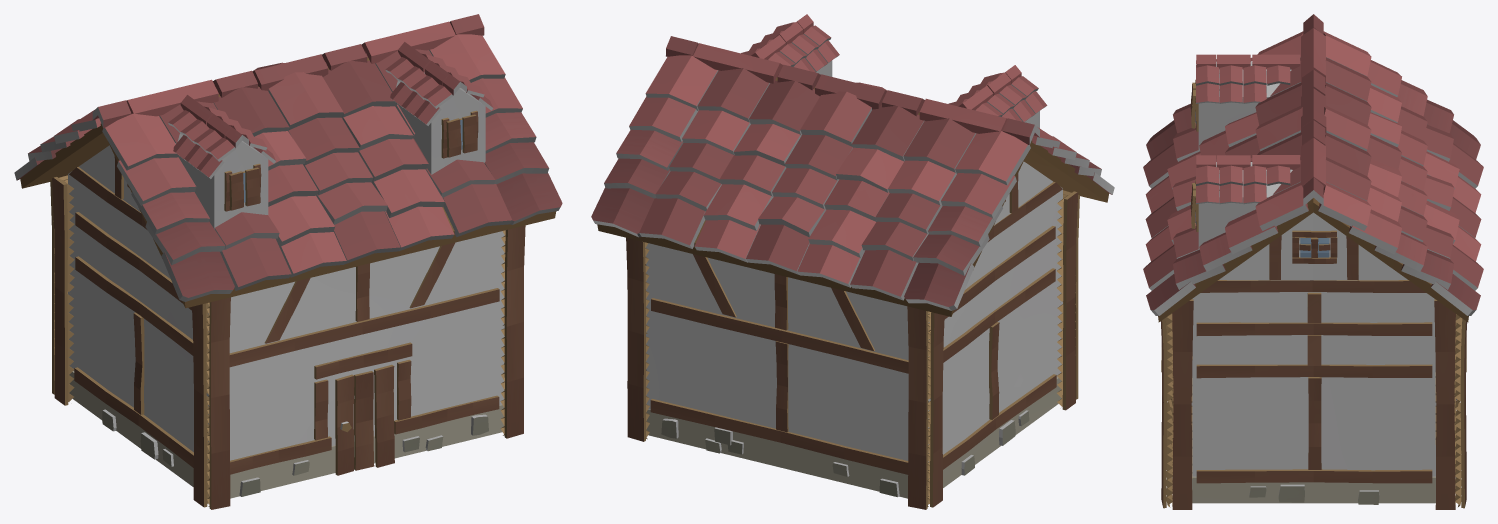
The model's file is paper house 2.fbx.
The picture shows the model from 3 angles, left to right: view 1: azimuth 30°, elevation 25°; view 2: azimuth 150°, elevation 25°; view 3: azimuth 270°, elevation 25°; orthographic projection. The views are drawn at different scales.
Visible parts, largest first — view 1: Cube.002, Cube.019, Cube.202, Cube.018, Cube.105, Cube.090, Cube.001, Cube.088, Cube.107, Cube.095, Cube.093, Cube.091 (+39 smaller); view 2: Cube.002, Cube.019, Cube.202, Cube.018, Cube.105, Cube.107, Cube.106, Cube.090, Cube.001, Cube.088, Cube.101, Cube.095 (+30 smaller); view 3: Cube.002, Cube.018, Cube.105, Cube.202, Cube.107, Cube.101, Cube.090, Cube.001, Cube.085, Cube.013, Cube.089, Cube.093 (+49 smaller).
Boxes of the visible parts, box(x1,y1,x2,y2) form: Cube.002: box(68, 145, 504, 460); Cube.019: box(50, 180, 525, 509); Cube.202: box(69, 371, 504, 498); Cube.018: box(52, 177, 207, 507); Cube.105: box(71, 34, 505, 170); Cube.090: box(220, 184, 512, 290); Cube.001: box(14, 157, 562, 301); Cube.088: box(20, 57, 556, 308); Cube.107: box(213, 54, 396, 136); Cube.095: box(268, 169, 444, 246); Cube.093: box(28, 142, 549, 265); Cube.091: box(277, 206, 454, 277); Cube.002: box(646, 161, 1062, 462); Cube.019: box(626, 194, 1079, 509); Cube.202: box(646, 377, 1061, 498); Cube.018: box(930, 191, 1078, 507); Cube.105: box(645, 55, 1060, 185); Cube.107: box(749, 74, 924, 161); Cube.106: box(697, 68, 976, 172); Cube.090: box(639, 198, 918, 300); Cube.001: box(591, 172, 1114, 310); Cube.088: box(597, 77, 1108, 316); Cube.101: box(629, 96, 1076, 219); Cube.095: box(703, 184, 875, 258); Cube.002: box(1191, 212, 1436, 476); Cube.018: box(1172, 299, 1455, 509); Cube.105: box(1255, 31, 1371, 230); Cube.202: box(1192, 476, 1435, 503); Cube.107: box(1255, 82, 1371, 176); Cube.101: box(1225, 60, 1401, 253); Cube.090: box(1143, 143, 1483, 290); Cube.001: box(1146, 120, 1480, 315); Cube.085: box(1196, 469, 1432, 483); Cube.013: box(1196, 322, 1432, 335); Cube.089: box(1196, 364, 1432, 378); Cube.093: box(1173, 99, 1453, 289).
Bounding box in the file's own units: 905 × 803 × 741.
